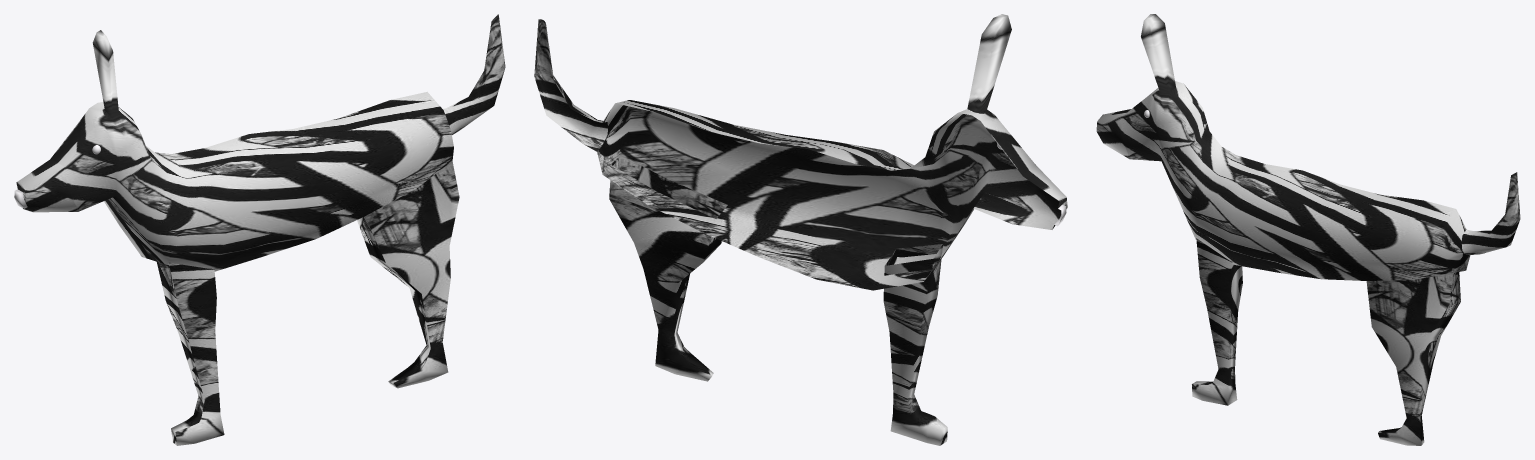
File: asset.glb
The picture shows the model from 3 angles, left to right: view 1: azimuth 30°, elevation 25°; view 2: azimuth 150°, elevation 25°; view 3: azimuth 330°, elevation 25°; orthographic projection. The views are drawn at different scales.
Visible parts, largest first — view 1: Body; view 2: Body; view 3: Body.
Part boxes in pixels (x1,y1,x2,y2): Body: [14, 14, 505, 445]; Body: [534, 14, 1067, 445]; Body: [1096, 14, 1520, 445].
Bounding box in the file's own units: 12.13 × 9.96 × 1.39.
2 materials, 1 textured.
